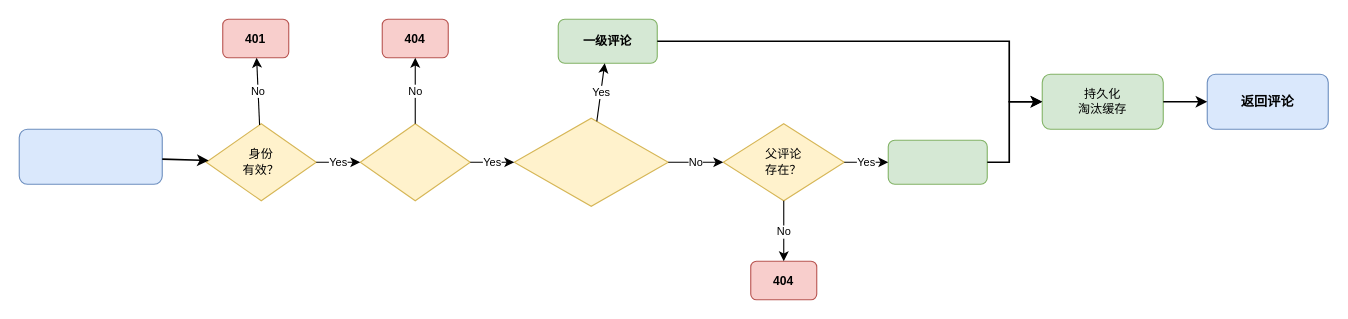
The diagram is 1348 pixels wide and 319 high, and some of its shapes have lost their labels. Each missing label, with the box of its shape:
parentCommentId 为空？: (513, 117, 668, 206)
二级回复: (887, 139, 987, 184)
帖子 存在？: (359, 123, 470, 201)
提交评论请求: (18, 128, 162, 184)
